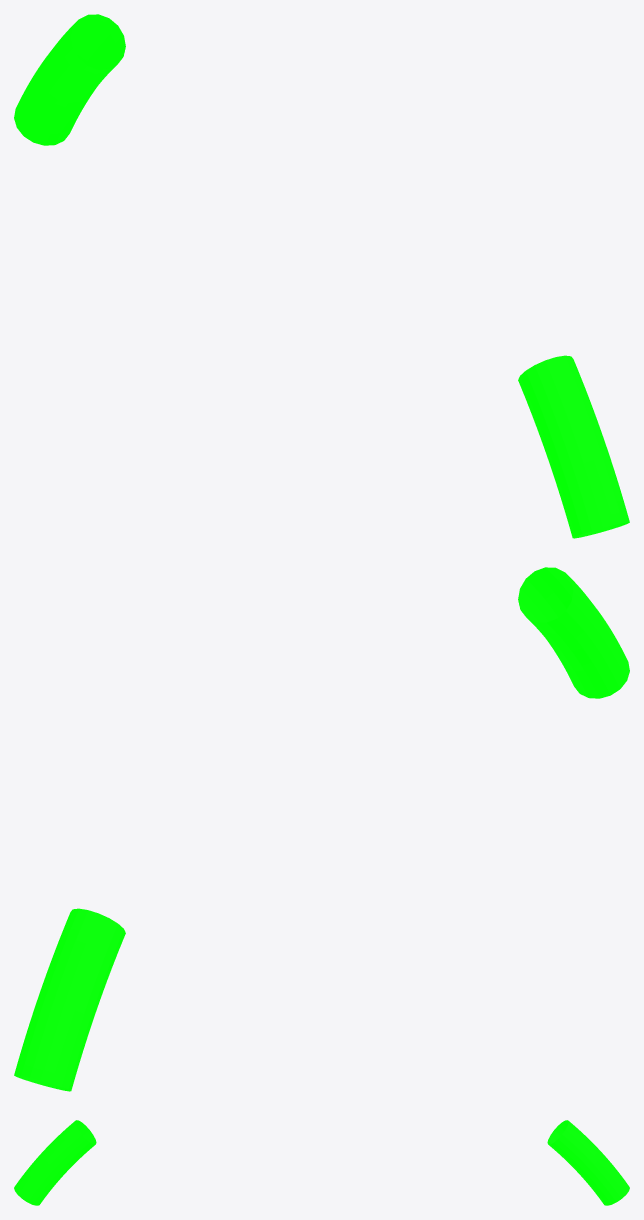
File: angle_contact.fbx
The picture shows the model from 3 angles, top to bottom: view 1: azimuth 30°, elevation 25°; view 2: azimuth 150°, elevation 25°; view 3: azimuth 270°, elevation 25°; orthographic projection. The views are drawn at different scales.
Visible parts, largest first — view 1: Circle; view 2: Circle; view 3: Circle.
Part boxes in pixels (x1,y1,x2,y2): Circle: [14, 14, 629, 538]; Circle: [14, 567, 629, 1091]; Circle: [14, 1120, 629, 1205].
Size of the model in its own units: 4.5 by 12.87 by 88.13.
